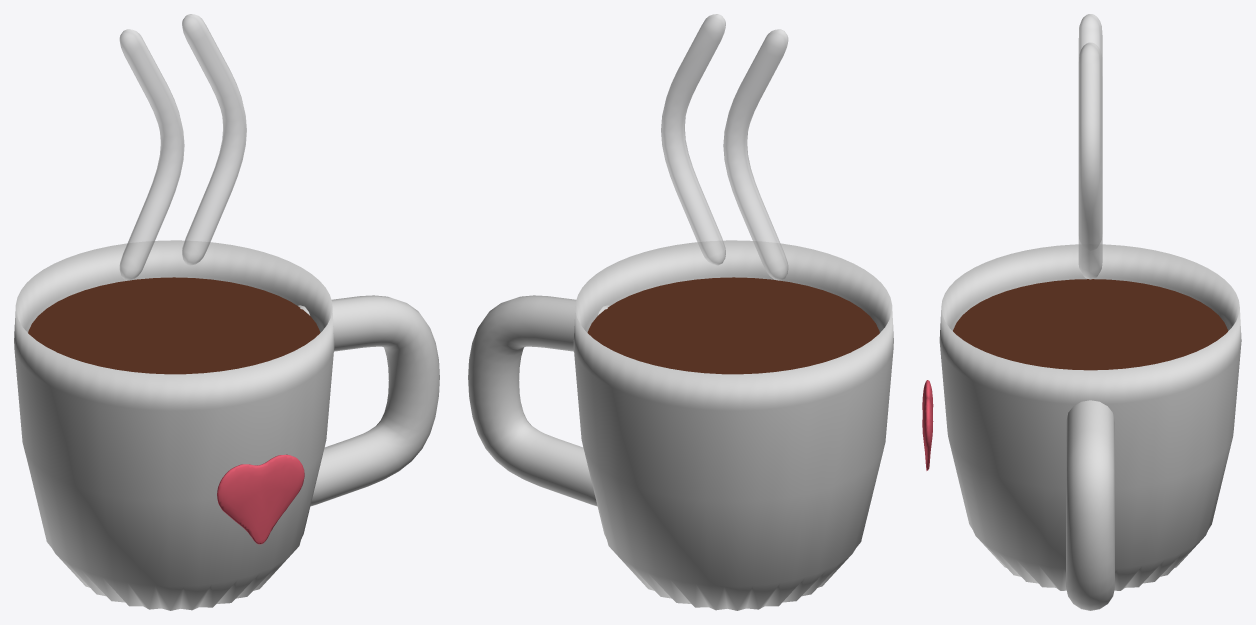
The model's file is deco_taza_corazon.glb.
The picture shows the model from 3 angles, left to right: view 1: azimuth 30°, elevation 25°; view 2: azimuth 150°, elevation 25°; view 3: azimuth 270°, elevation 25°; orthographic projection. The views are drawn at different scales.
Parts seen in each view (by area): view 1: taza deco.001, café taza.001, oreja taza deco.001, vapor 0.001, vapor 1.001, corazón taza.001; view 2: taza deco.001, café taza.001, oreja taza deco.001, vapor 0.001, vapor 1.001; view 3: taza deco.001, café taza.001, oreja taza deco.001, vapor 1.001, vapor 0.001, corazón taza.001.
Boxes of the visible parts, x1,y1,x2,y2 form: taza deco.001: (14, 240, 334, 610); café taza.001: (28, 277, 320, 374); oreja taza deco.001: (298, 295, 439, 506); vapor 0.001: (119, 29, 184, 280); vapor 1.001: (182, 14, 246, 265); corazón taza.001: (217, 454, 304, 544); taza deco.001: (573, 240, 893, 610); café taza.001: (587, 277, 879, 374); oreja taza deco.001: (468, 295, 609, 506); vapor 0.001: (723, 29, 788, 280); vapor 1.001: (661, 14, 725, 265); taza deco.001: (939, 244, 1241, 590); café taza.001: (953, 279, 1227, 370); oreja taza deco.001: (1066, 400, 1114, 610); vapor 1.001: (1078, 42, 1102, 279); vapor 0.001: (1078, 14, 1102, 250); corazón taza.001: (922, 380, 933, 470).
Bounding box in the file's own units: 0.193 × 0.2575 × 0.1411.
